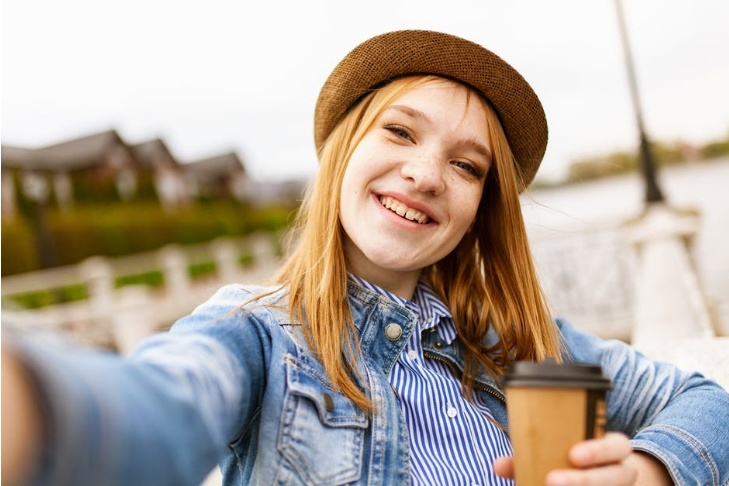face: (339, 78, 495, 269)
